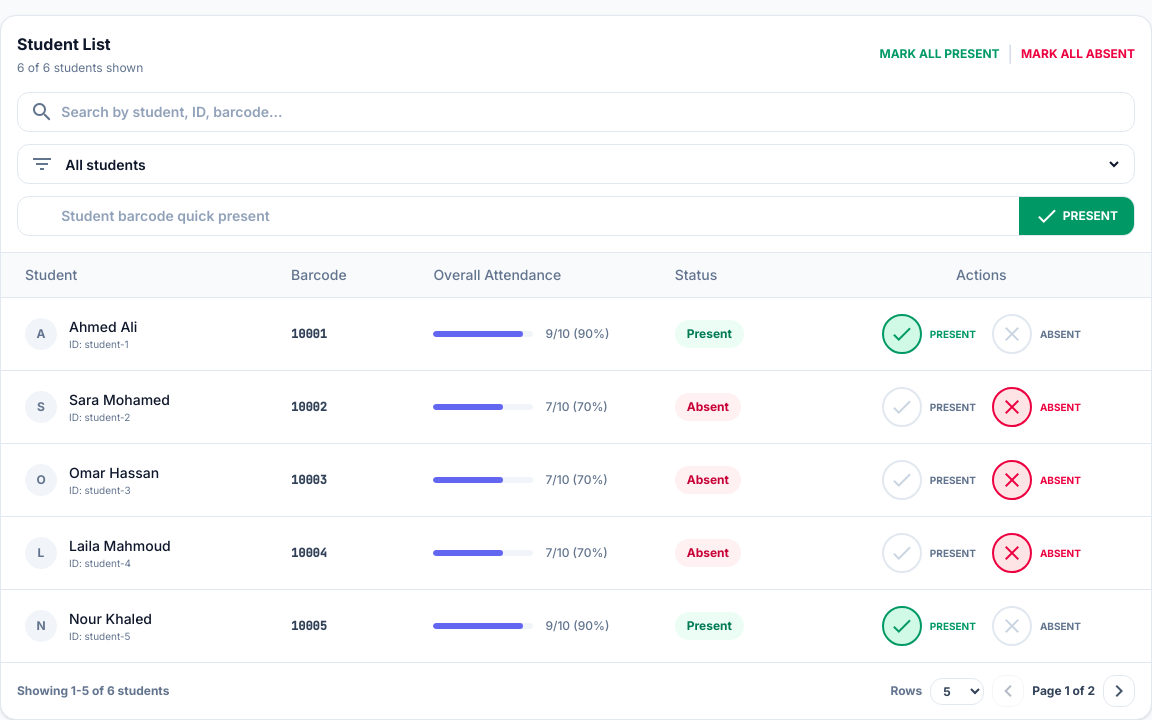
Test: TenantGroupAttendanceComponent › paginates the student attendance table
This screenshot has width=1152, height=720.
(page scrolled)
Click the button named "Next students page" at [1119, 691], box x1=1103 y1=675 x2=1135 y2=707
(page scrolled)
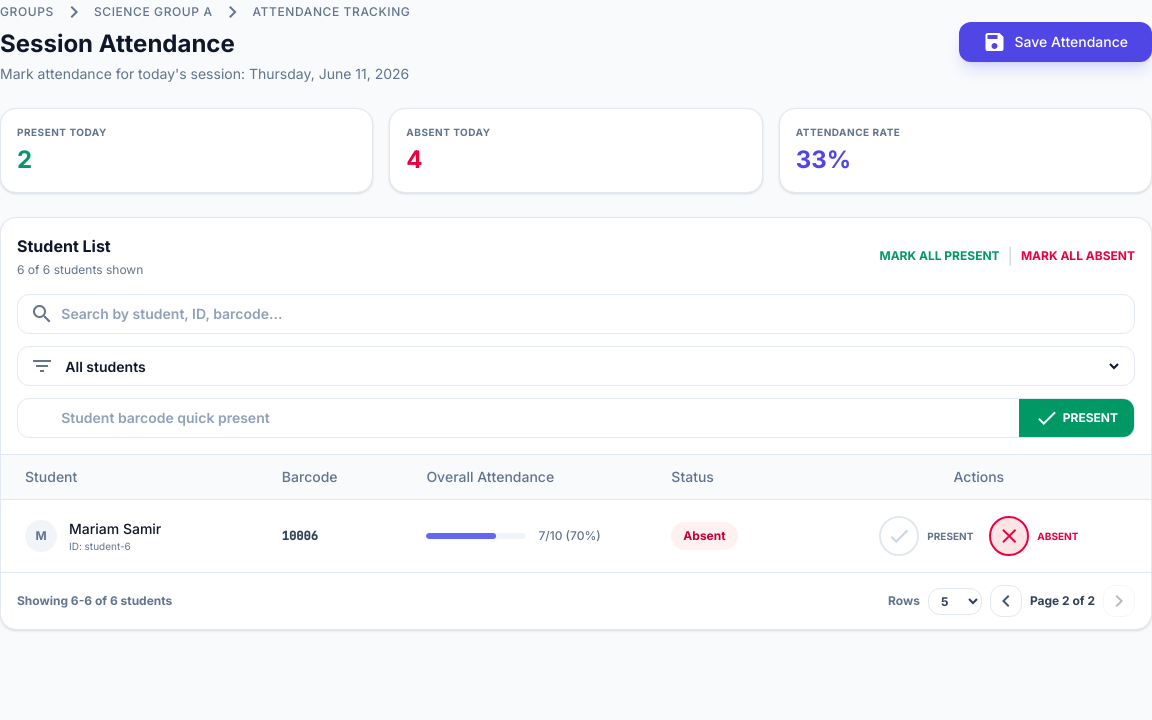
Expected: the text "Showing 6-6 of 6 students" is shown, x1=17 y1=593 x2=172 y2=609
Expected: the text "Mariam Samir" is shown, x1=69 y1=519 x2=161 y2=539
Expected: the text "Ahmed Ali" is gone
